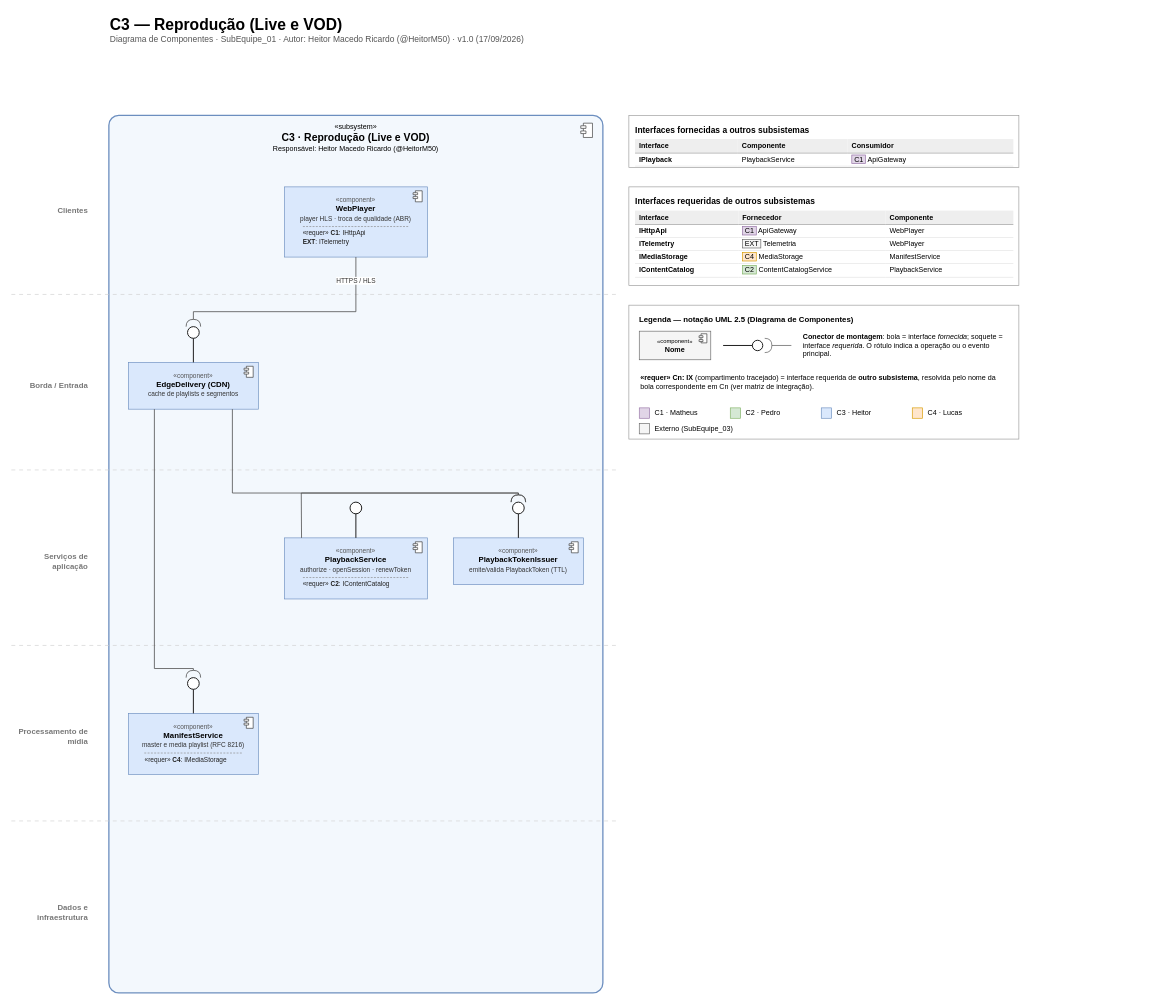
This 1160x1004 diagram has some shape labels left out. The centre of each missing label's shape, as x and y in pixels:
"IHlsDelivery" belongs at (193,332).
"IManifest" belongs at (193,683).
"IPlayback" belongs at (355,507).
"IPlaybackToken" belongs at (518,507).
